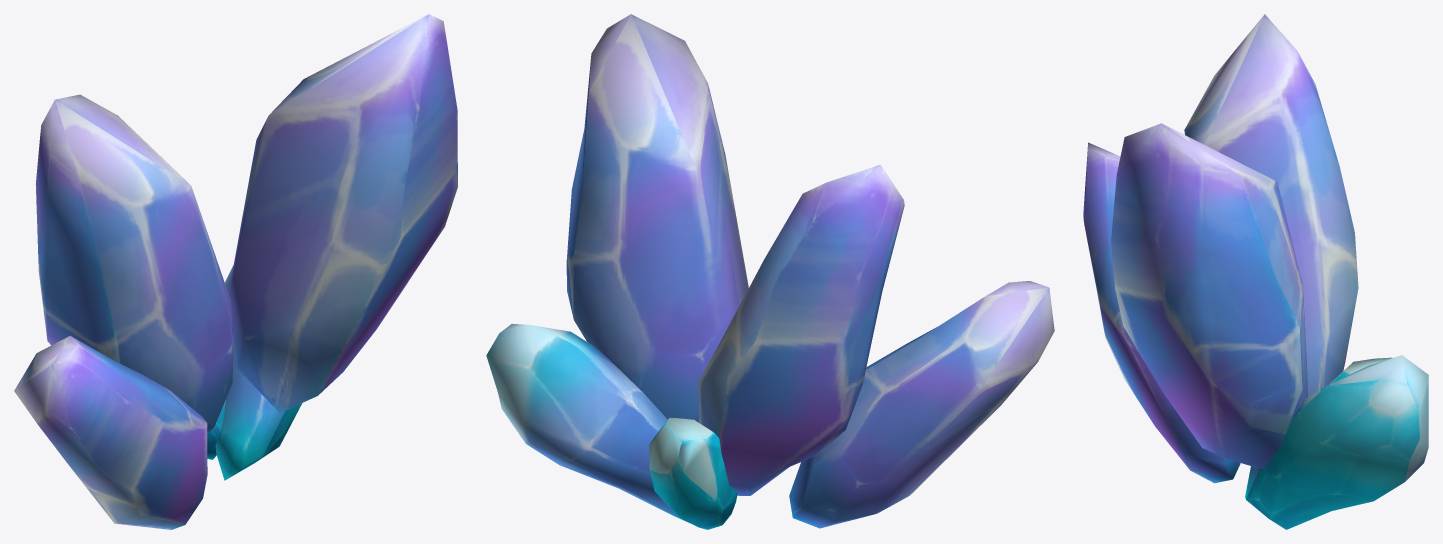
Rendered from Snake_crystal_02.fbx.
3 renders of one model, left to right at view 1: azimuth 30°, elevation 25°; view 2: azimuth 150°, elevation 25°; view 3: azimuth 270°, elevation 25°, orthographic. The views are drawn at different scales.
Parts seen in each view (by area): view 1: Snake_crystal_02; view 2: Snake_crystal_02; view 3: Snake_crystal_02.
Part boxes in pixels (x1,y1,x2,y2): Snake_crystal_02: (14,14,457,529); Snake_crystal_02: (486,14,1054,529); Snake_crystal_02: (1083,14,1428,529).
Bounding box in the file's own units: 104 × 103 × 68.69.
